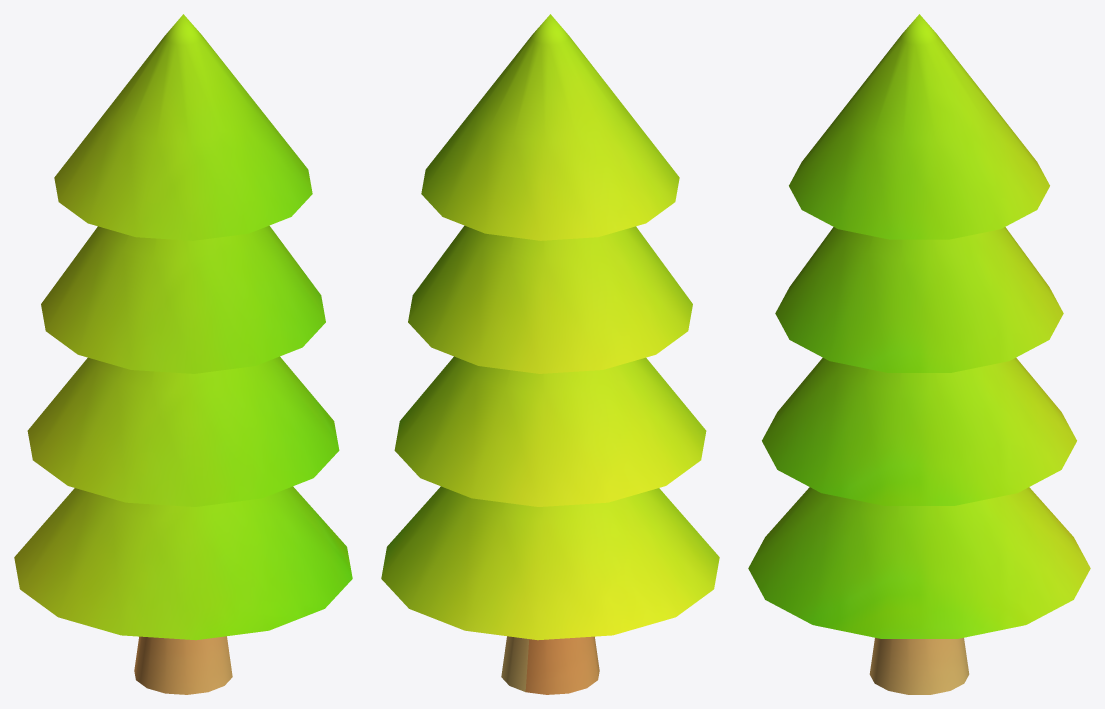
The model's file is Tree.fbx.
The picture shows the model from 3 angles, left to right: view 1: azimuth 30°, elevation 25°; view 2: azimuth 150°, elevation 25°; view 3: azimuth 270°, elevation 25°; orthographic projection.
Visible parts, largest first — view 1: Small_Tree; view 2: Small_Tree; view 3: Small_Tree.
Part boxes in pixels (x1,y1,x2,y2): Small_Tree: [14, 14, 352, 694]; Small_Tree: [381, 14, 719, 694]; Small_Tree: [748, 14, 1090, 694].
Bounding box in the file's own units: 143 × 311 × 146.
Materials: 1 (1 with a texture image).
